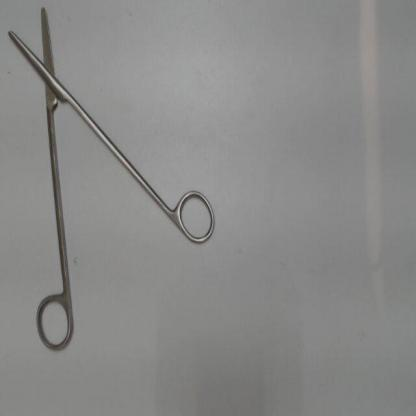9 Metzenbaum Scissors: (3, 3, 222, 357)
